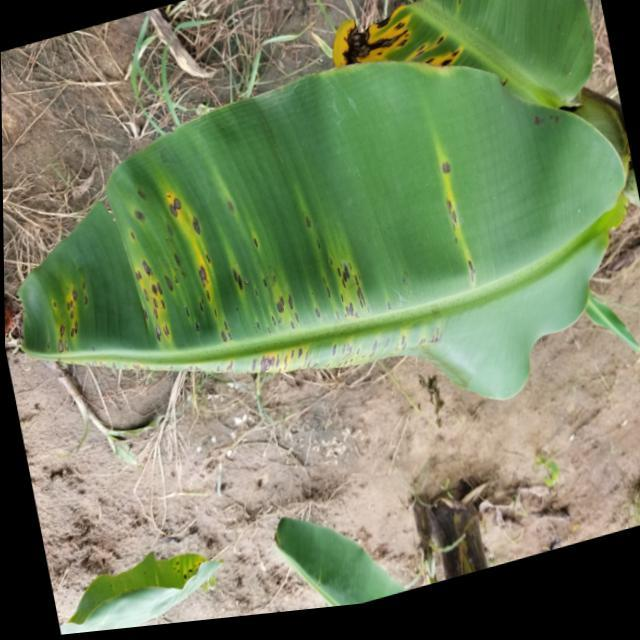Early_rust: (24, 134, 448, 414), (420, 124, 510, 293), (325, 0, 495, 81), (145, 533, 215, 595)
